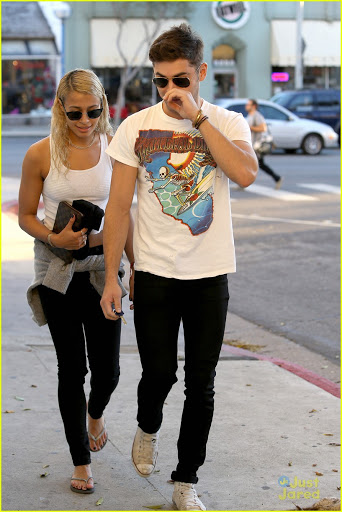Person: (100, 21, 258, 512), (17, 68, 136, 494)
